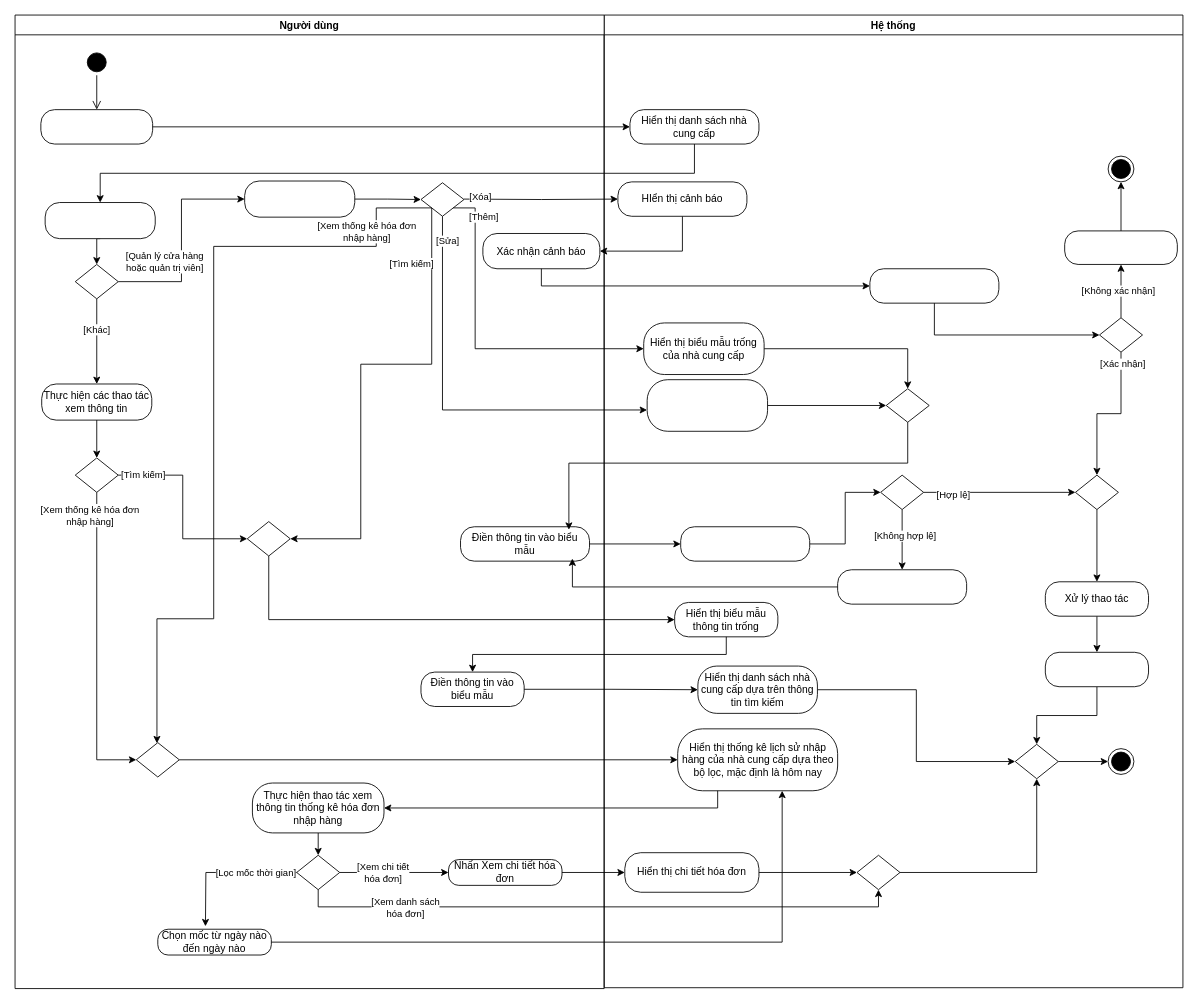
The diagram is 1198 pixels wide and 1004 high, and some of its shapes have lost their labels. The shapes that lost their labels are listed below. From the top down, each one's centre as x and y in pixels, then its label:
At point (96, 126): "Chọn chức năng Quản lý nhà cung cấp".
At point (299, 198): "Thực hiện các thao tác quản lý".
At point (99, 220): "Kiểm tra chức vụ".
At point (1120, 247): "Thông báo hủy thao tác".
At point (934, 285): "Kiểm tra xác nhận".
At point (707, 405): "Hiển thị biểu mẫu gồm thông tin nhà cung cấp".
At point (745, 543): "Kiểm tra tính hợp lệ của thông tin".
At point (902, 586): "Thông báo thông tin không hợp lệ".
At point (1096, 669): "Thông báo thành công".
